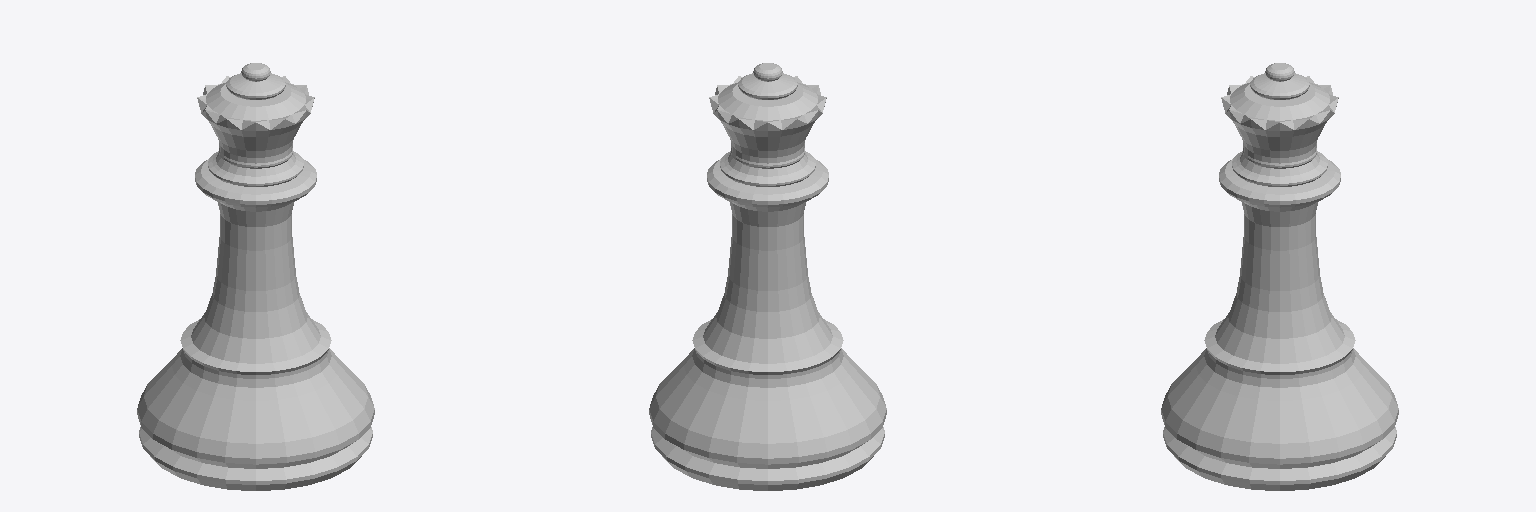
The model's file is queen.obj.
3 renders of one model, left to right at view 1: azimuth 30°, elevation 25°; view 2: azimuth 150°, elevation 25°; view 3: azimuth 270°, elevation 25°, orthographic.
Parts seen in each view (by area): view 1: Mesh1 Model; view 2: Mesh1 Model; view 3: Mesh1 Model.
Part boxes in pixels (bbox=[...]): Mesh1 Model: bbox=[137, 63, 374, 490]; Mesh1 Model: bbox=[649, 63, 886, 490]; Mesh1 Model: bbox=[1161, 63, 1398, 490].
Size of the model in its own units: 0.888 by 1.56 by 0.888.